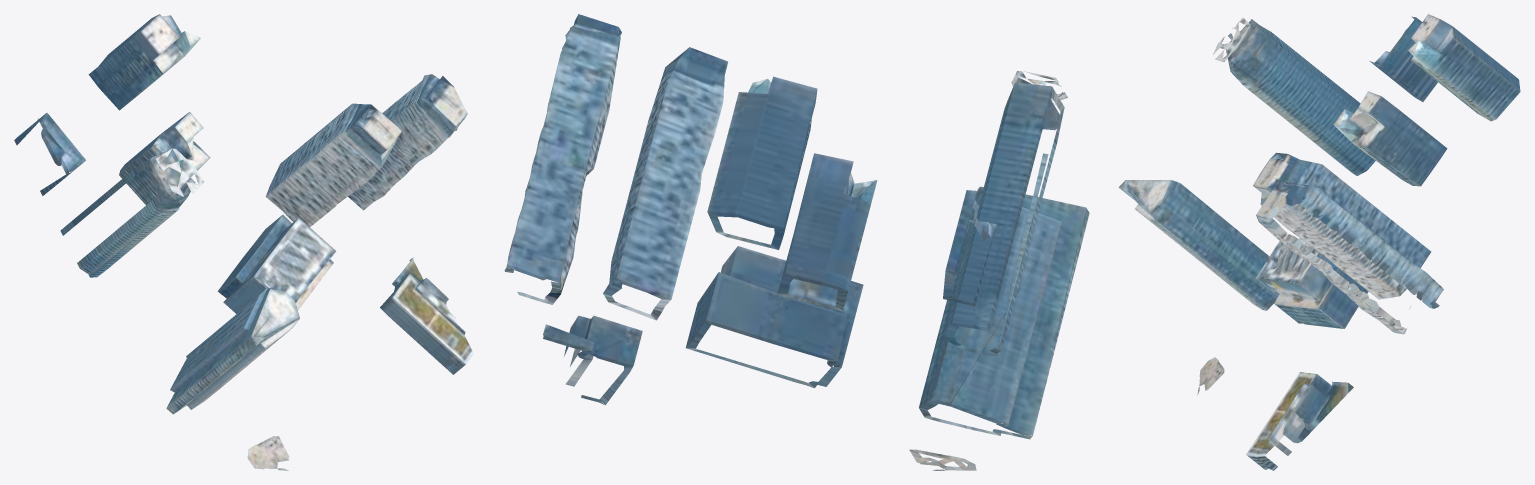
The model's file is AJVsH2xWuI73dckVpJTRpQJYrwFXE39Mvtlh5CXU4WX-3w-m3OT_wd9l4KWdsCl-5hIlKwe3f-ZwsGwOTJc6-YD_2MAy71UrQkq9OmhJwwwLBov_wbZkieojdDlToztlGpPNjD1Yarql-vq4NGKI6MPWbMM6CbTjMg.glb.
3 views of the same model, side by side, from view 1: azimuth 30°, elevation 25°; view 2: azimuth 150°, elevation 25°; view 3: azimuth 270°, elevation 25° (orthographic). The views are drawn at different scales.
Size of the model in its own units: 248 by 244 by 239.
Materials: 1 (1 with a texture image).
